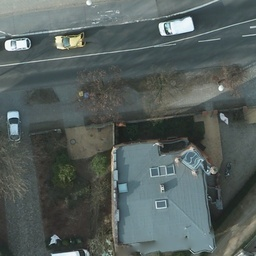car: (159, 17, 195, 34), (55, 33, 85, 50), (6, 111, 21, 143), (5, 37, 32, 51)
